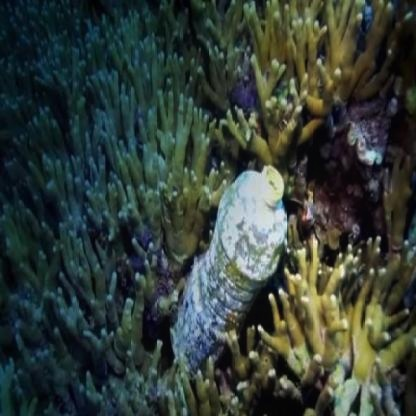pbottle: (186, 149, 284, 373)
